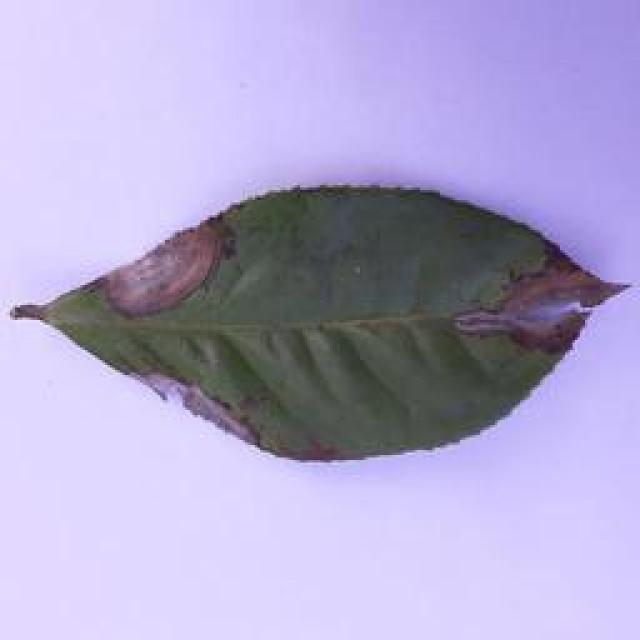Gray Blight: (1, 175, 636, 472)
